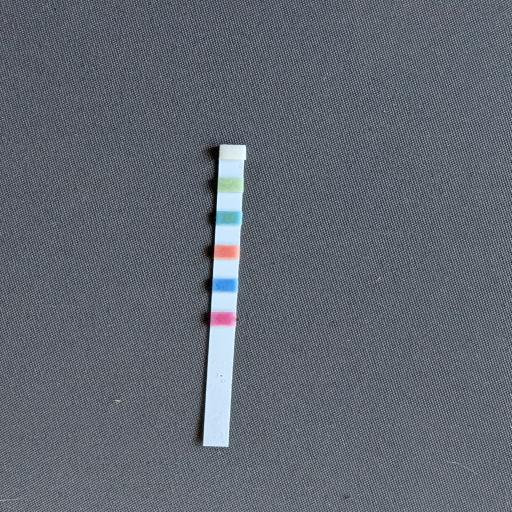strip: (201, 144, 247, 448)
